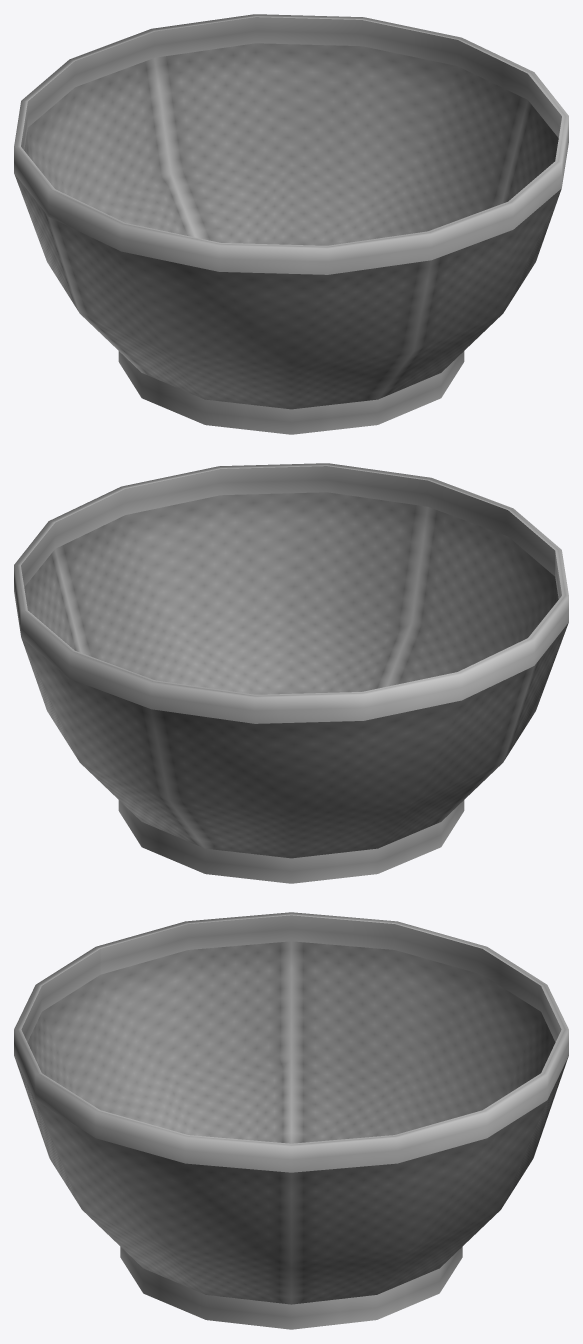
Rendered from KR_Colander_01_01.fbx.
The picture shows the model from 3 angles, top to bottom: view 1: azimuth 30°, elevation 25°; view 2: azimuth 150°, elevation 25°; view 3: azimuth 270°, elevation 25°; orthographic projection.
Visible parts, largest first — view 1: kr_colander_01_01; view 2: kr_colander_01_01; view 3: kr_colander_01_01.
Boxes of the visible parts, x1,y1,x2,y2 form: kr_colander_01_01: (14, 14, 568, 434); kr_colander_01_01: (14, 463, 568, 883); kr_colander_01_01: (14, 912, 568, 1329).
Size of the model in its own units: 22.07 by 10 by 22.07.
